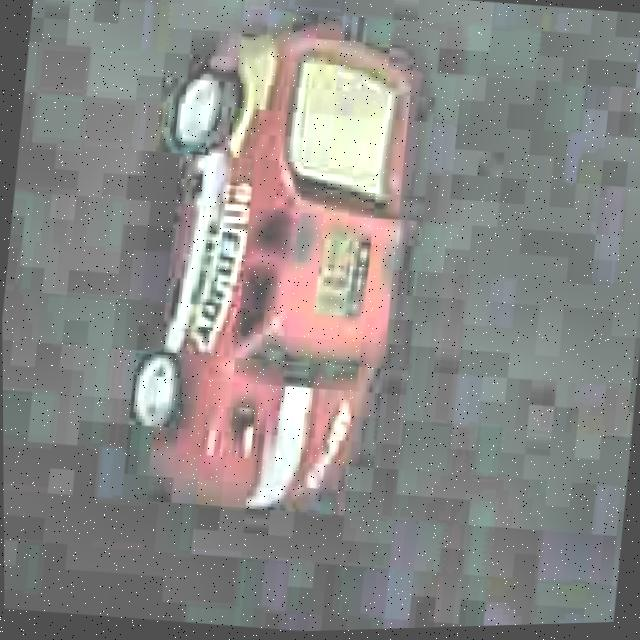car: (114, 12, 437, 528)
